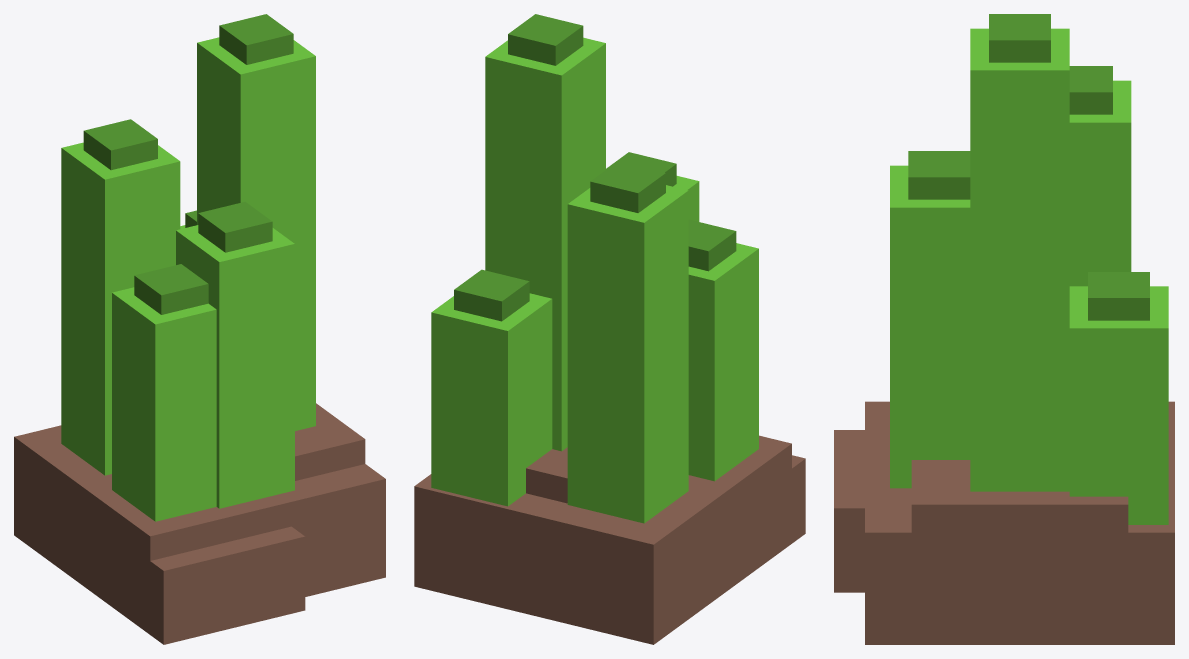
Rendered from TubeCoral_Green.glb.
3 renders of one model, left to right at view 1: azimuth 30°, elevation 25°; view 2: azimuth 150°, elevation 25°; view 3: azimuth 270°, elevation 25°, orthographic. The views are drawn at different scales.
Visible parts, largest first — view 1: TubeCoral_Green; view 2: TubeCoral_Green; view 3: TubeCoral_Green.
Part boxes in pixels (left/top/right/bottom): TubeCoral_Green: left=14, top=14, right=385, bottom=644; TubeCoral_Green: left=414, top=14, right=805, bottom=644; TubeCoral_Green: left=834, top=14, right=1174, bottom=644.
Size of the model in its own units: 5 by 10.4 by 5.5.
Materials: 1 (1 with a texture image).
